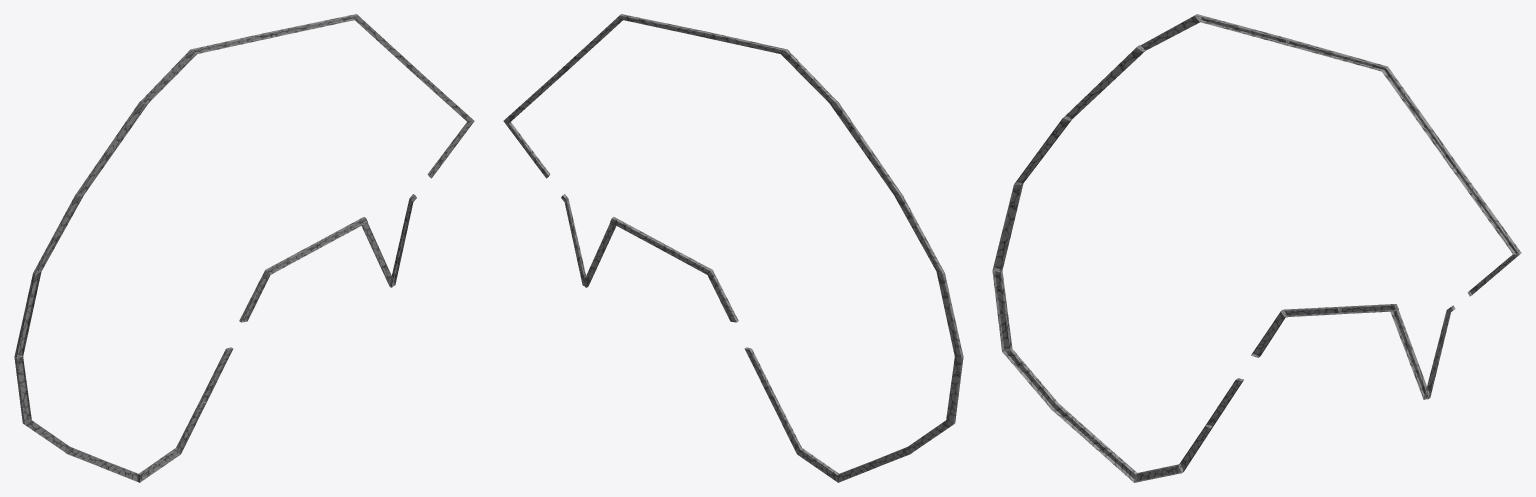
Rendered from tuong 15.fbx.
3 renders of one model, left to right at view 1: azimuth 30°, elevation 25°; view 2: azimuth 150°, elevation 25°; view 3: azimuth 330°, elevation 25°, orthographic. The views are drawn at different scales.
Parts seen in each view (by area): view 1: polySurface80, polySurface61, polySurface70, polySurface73; view 2: polySurface80, polySurface61, polySurface70, polySurface73; view 3: polySurface80, polySurface61, polySurface73, polySurface70.
Part boxes in pixels (x1,y1,x2,y2): polySurface80: [33, 14, 474, 273]; polySurface61: [239, 194, 416, 322]; polySurface70: [65, 347, 233, 482]; polySurface73: [14, 270, 71, 452]; polySurface80: [504, 14, 944, 273]; polySurface61: [561, 194, 738, 322]; polySurface70: [744, 347, 911, 482]; polySurface73: [906, 272, 963, 453]; polySurface80: [1014, 14, 1521, 254]; polySurface61: [1251, 304, 1455, 399]; polySurface73: [992, 182, 1058, 408]; polySurface70: [1051, 378, 1243, 482].
Bounding box in the file's own units: 28.32 × 24.77 × 0.2167.
1 material, 1 textured.
